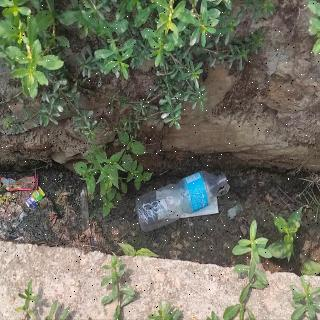Plastic-bottle: (135, 168, 230, 235)
